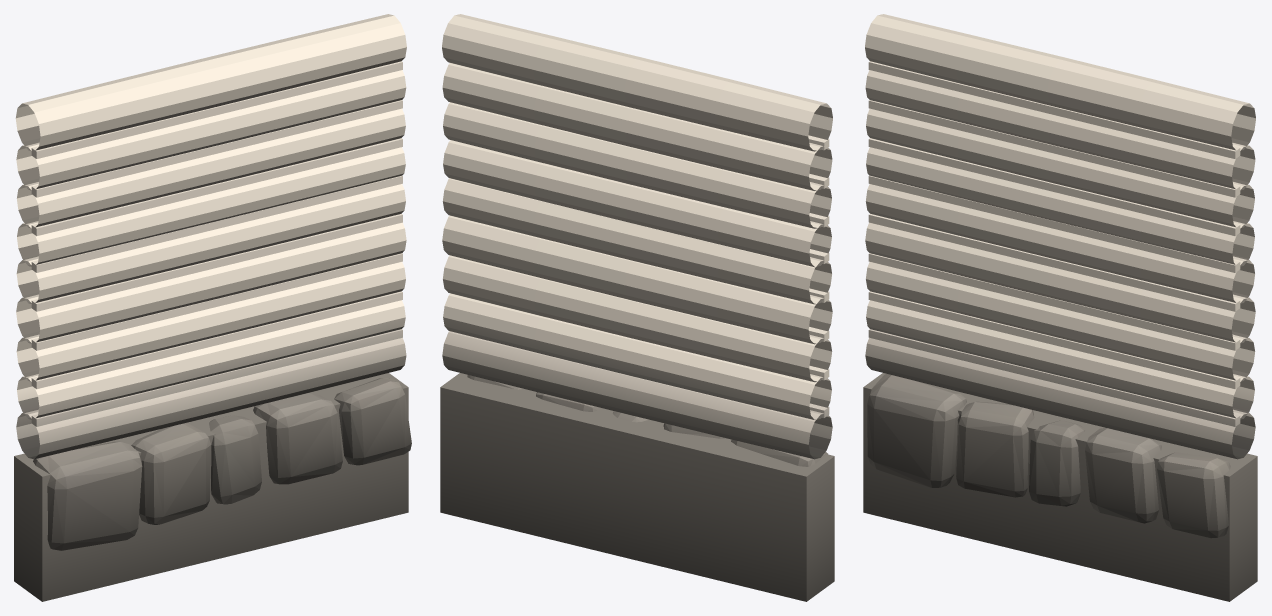
File: SM_VK_Wall_Log_B.fbx
3 renders of one model, left to right at view 1: azimuth 30°, elevation 25°; view 2: azimuth 150°, elevation 25°; view 3: azimuth 330°, elevation 25°, orthographic.
Visible parts, largest first — view 1: SM_VK_Wall_Log_B.001; view 2: SM_VK_Wall_Log_B.001; view 3: SM_VK_Wall_Log_B.001.
Boxes of the visible parts, x1,y1,x2,y2 form: SM_VK_Wall_Log_B.001: (14, 14, 411, 601); SM_VK_Wall_Log_B.001: (440, 14, 834, 601); SM_VK_Wall_Log_B.001: (863, 14, 1257, 601).
Bounding box in the file's own units: 3 × 3.81 × 0.5529.
